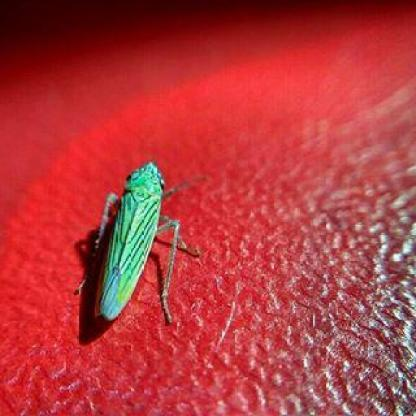green-leafhopper: (78, 160, 196, 324)
